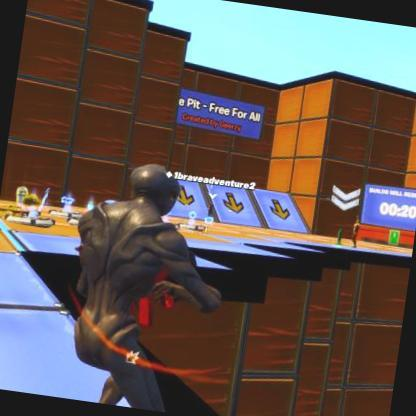person: (49, 150, 243, 416), (348, 218, 360, 244), (206, 200, 218, 216)
